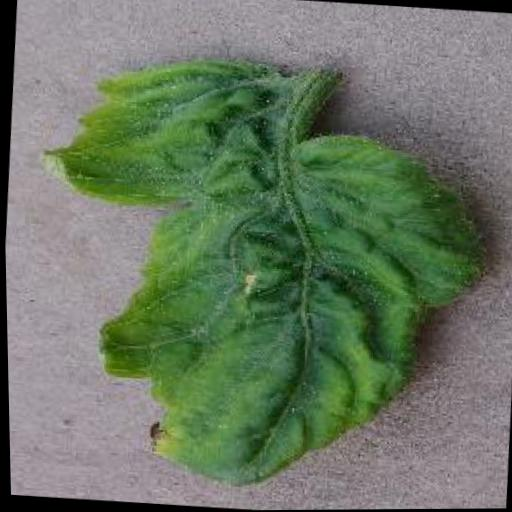Yellow Leaf Curl Virus: (15, 41, 506, 508)
